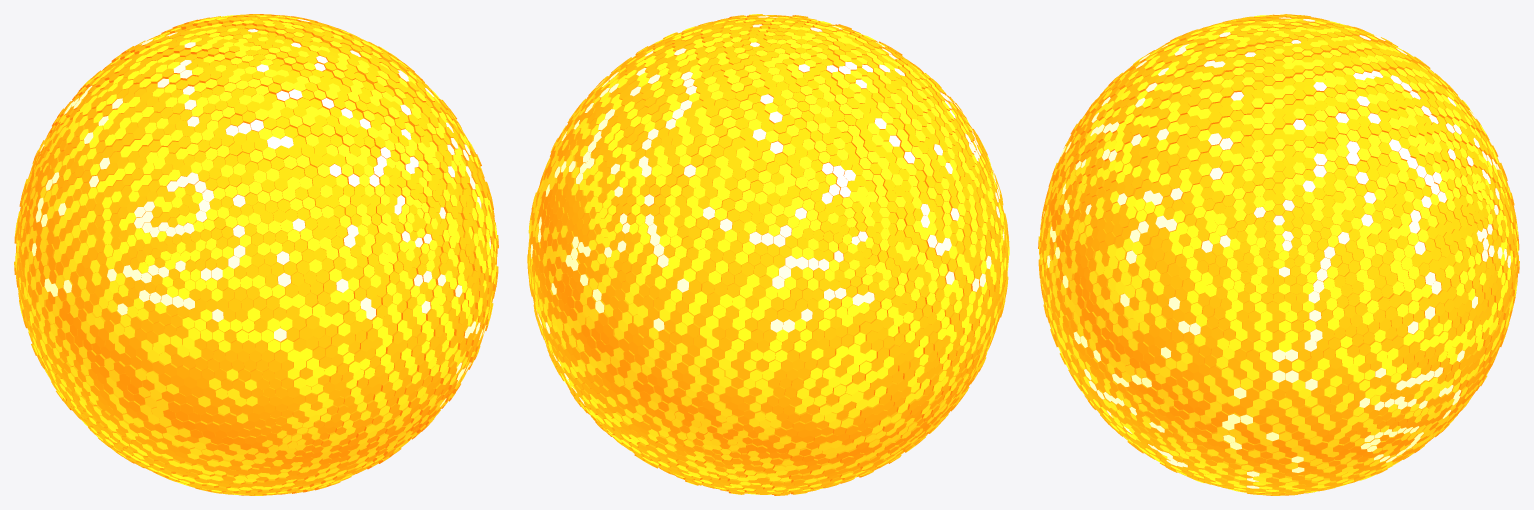
The model's file is star.glb.
The picture shows the model from 3 angles, left to right: view 1: azimuth 30°, elevation 25°; view 2: azimuth 150°, elevation 25°; view 3: azimuth 270°, elevation 25°; orthographic projection.
Visible parts, largest first — view 1: GEO-golden-photosphere; view 2: GEO-golden-photosphere; view 3: GEO-golden-photosphere.
Boxes of the visible parts, left/top/right/bottom form: GEO-golden-photosphere: left=14, top=14, right=498, bottom=495; GEO-golden-photosphere: left=527, top=14, right=1009, bottom=495; GEO-golden-photosphere: left=1038, top=14, right=1519, bottom=495.
Size of the model in its own units: 2.01 by 2 by 2.01.
